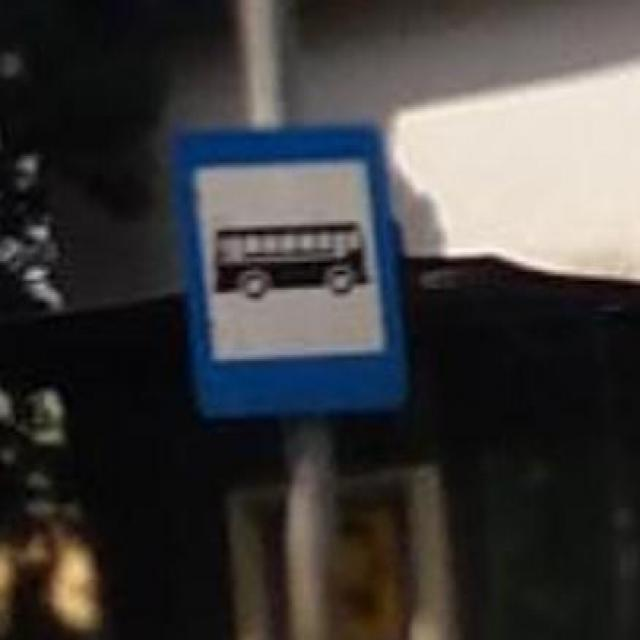traffic sign: (171, 129, 412, 422)
